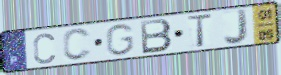B: (138, 17, 174, 56)
C: (61, 27, 94, 62), (32, 31, 57, 65)
G: (104, 22, 136, 57)
J: (222, 8, 249, 46)
T: (185, 12, 215, 49)
